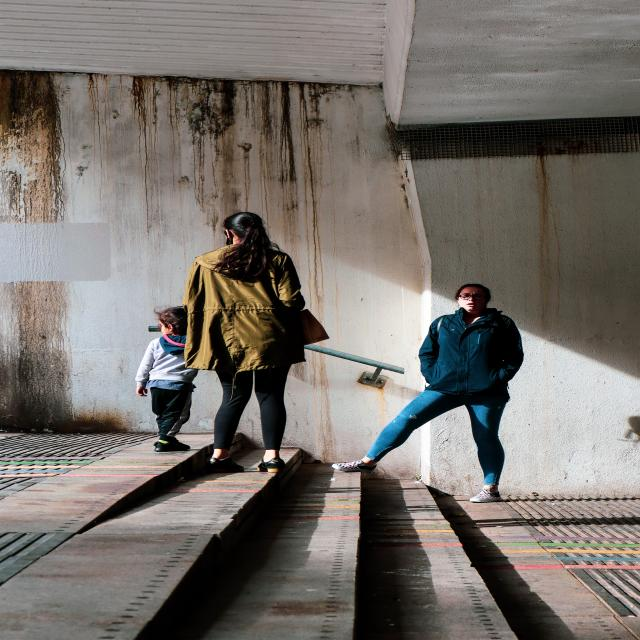adult: (329, 280, 521, 499), (190, 209, 311, 467), (136, 308, 195, 448)
